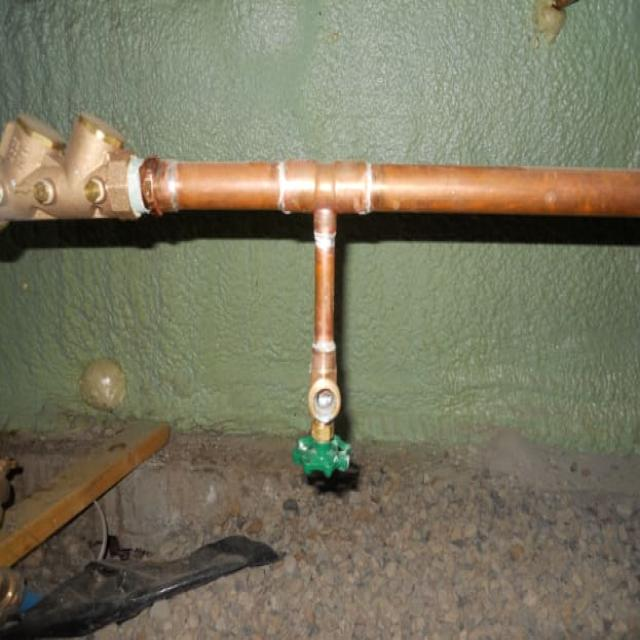Wheel Handle Valve Threaded: (279, 160, 372, 476)
